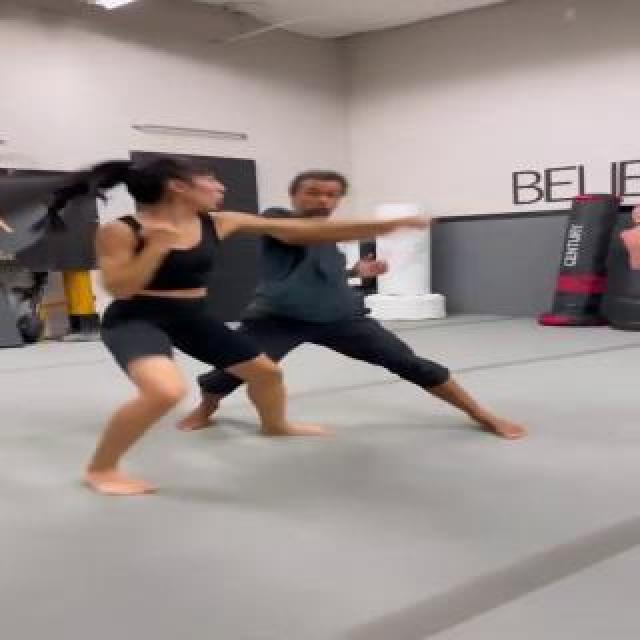fight: (45, 121, 555, 511)
